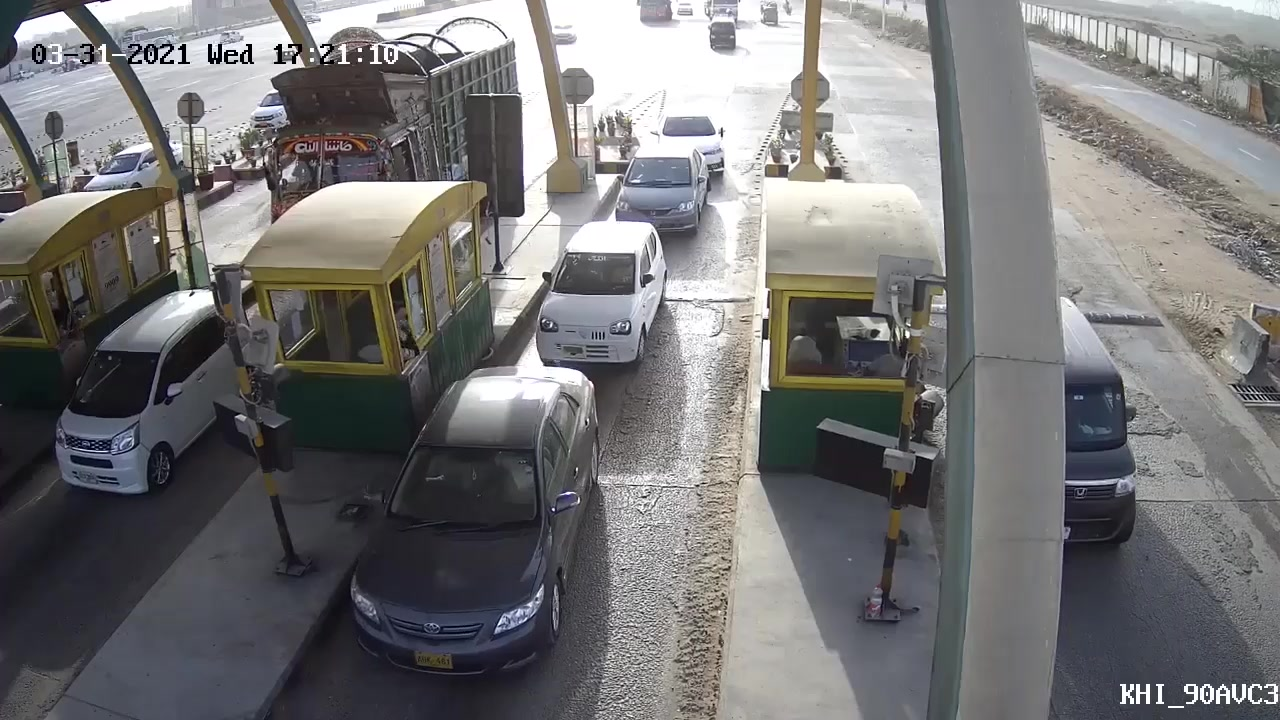F1: (334, 368, 603, 675), (522, 215, 671, 375)
